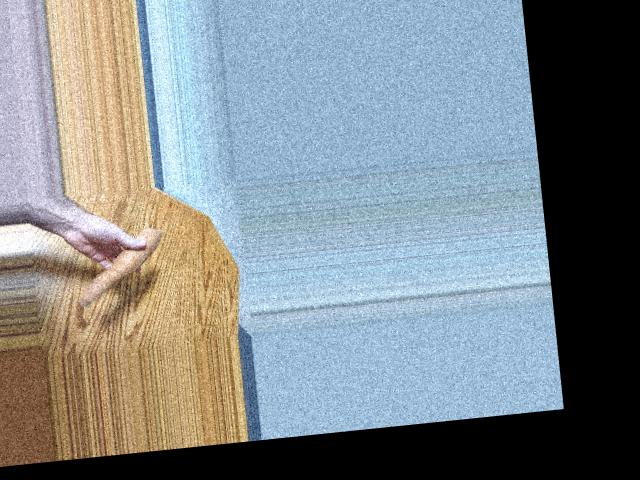sweet_potato: (72, 225, 160, 304)
